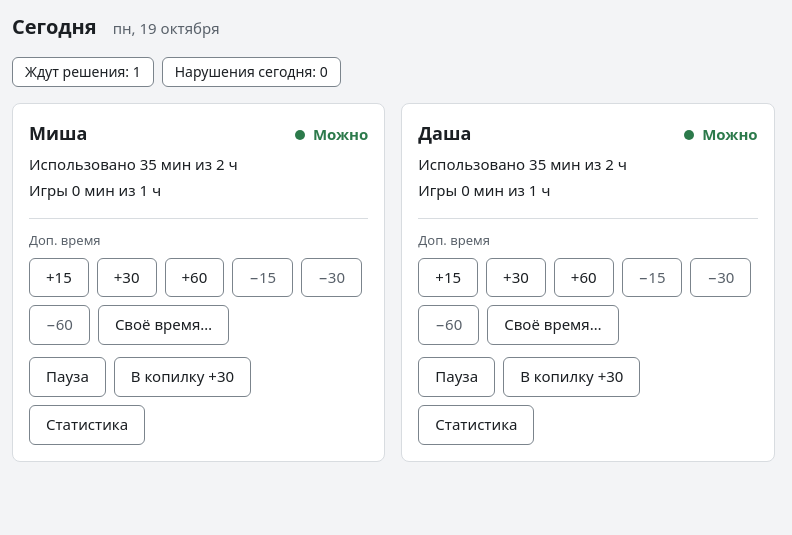
Test case: Today: добавить время › время добавляется только тому ребёнку, чья кнопка нажата
Expected: the element "Миша" is shown, [12,103,385,462]
Step 1. Click the button "+60" below "Даша" → (584, 278), box [554,258,614,298]
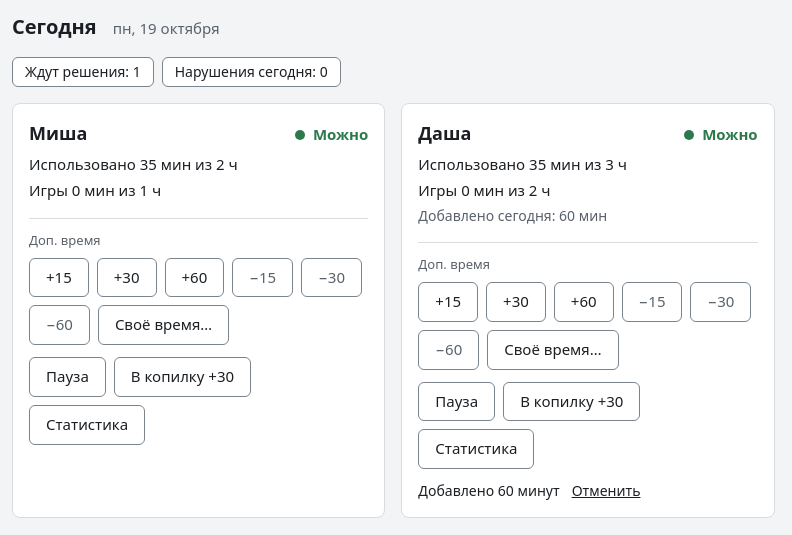
Expected: the text "Добавлено 60 минут" is shown, [418,481,560,501]
